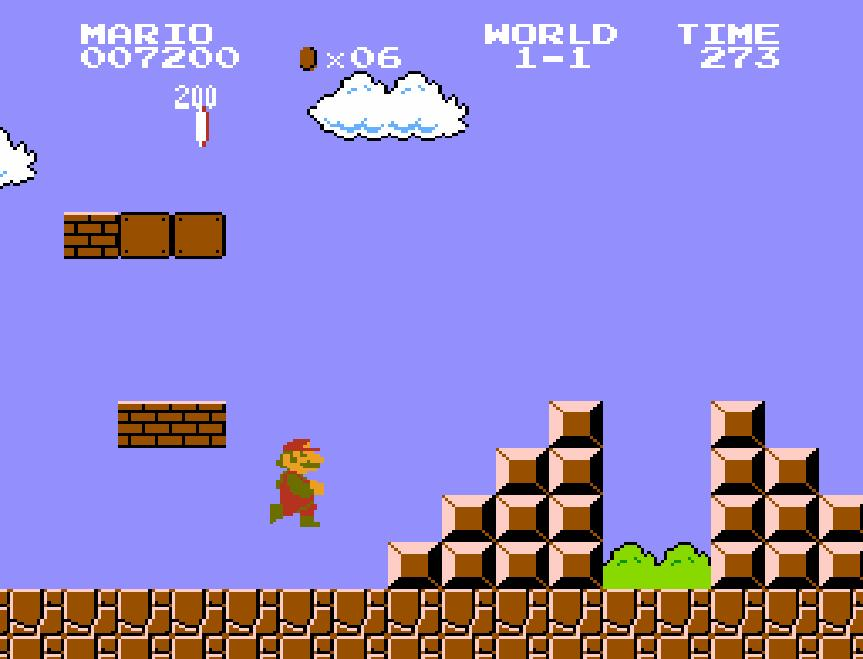big_mario: (267, 431, 325, 529)
